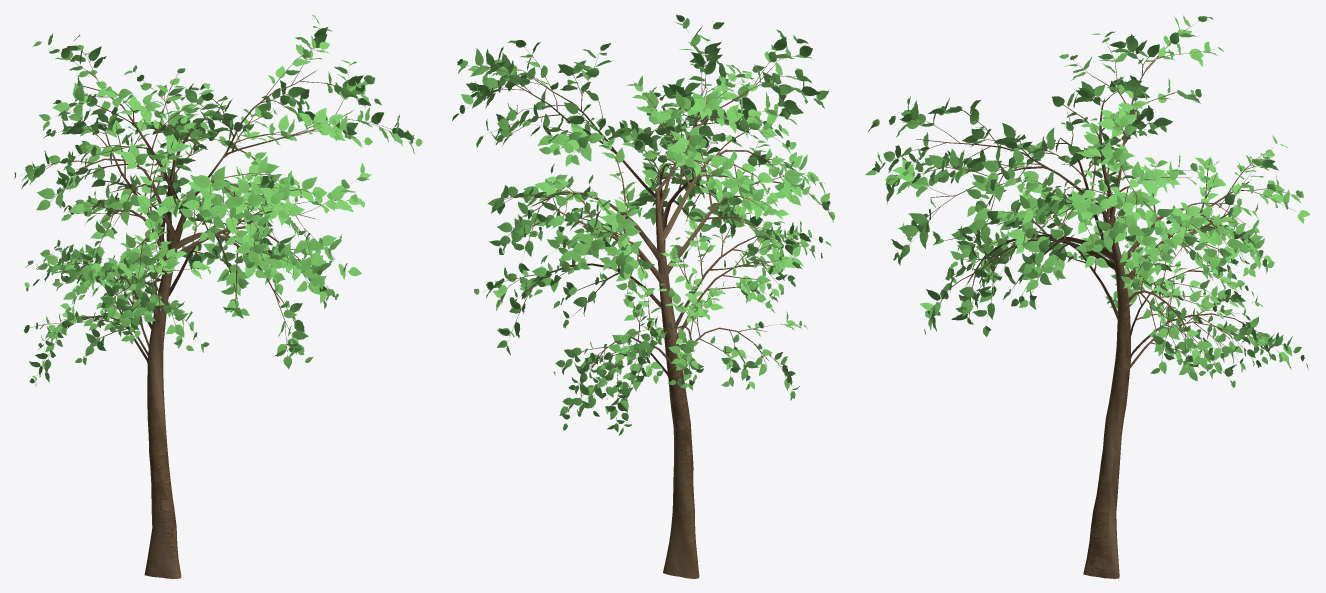
File: tree-1.fbx
The picture shows the model from 3 angles, left to right: view 1: azimuth 30°, elevation 25°; view 2: azimuth 150°, elevation 25°; view 3: azimuth 270°, elevation 25°; orthographic projection.
Visible parts, largest first — view 1: tree_1; view 2: tree_1; view 3: tree_1.
Boxes of the visible parts, x1,y1,x2,y2 form: tree_1: (14, 15, 422, 578); tree_1: (452, 14, 835, 578); tree_1: (865, 15, 1310, 578).
Bounding box in the file's own units: 18.43 × 25.14 × 19.35.
